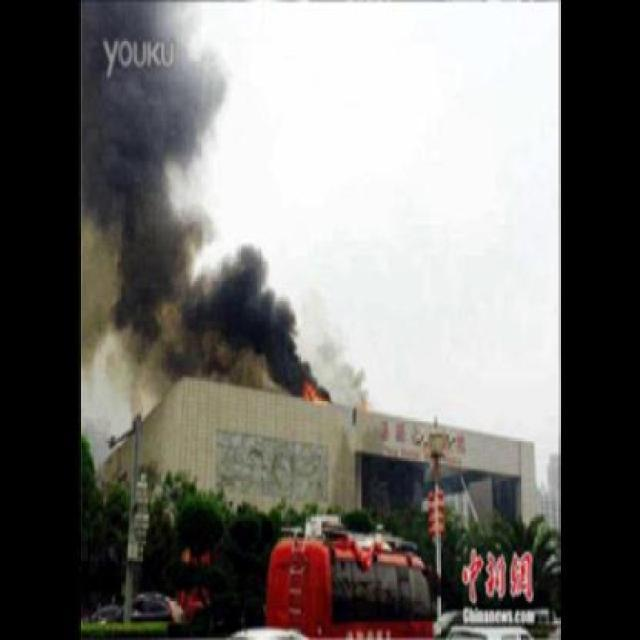Fire: (301, 366, 323, 399)
Smoke: (83, 2, 294, 396)
